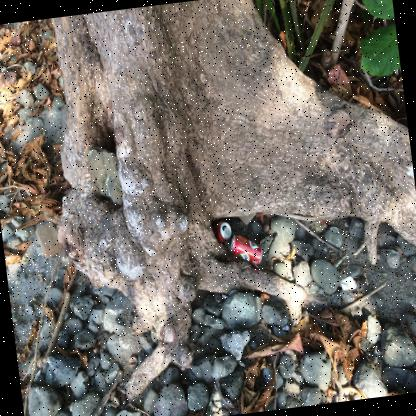Drink can: (230, 234, 262, 264), (211, 221, 231, 242)
Pop tab: (224, 228, 228, 235), (232, 237, 233, 245)
